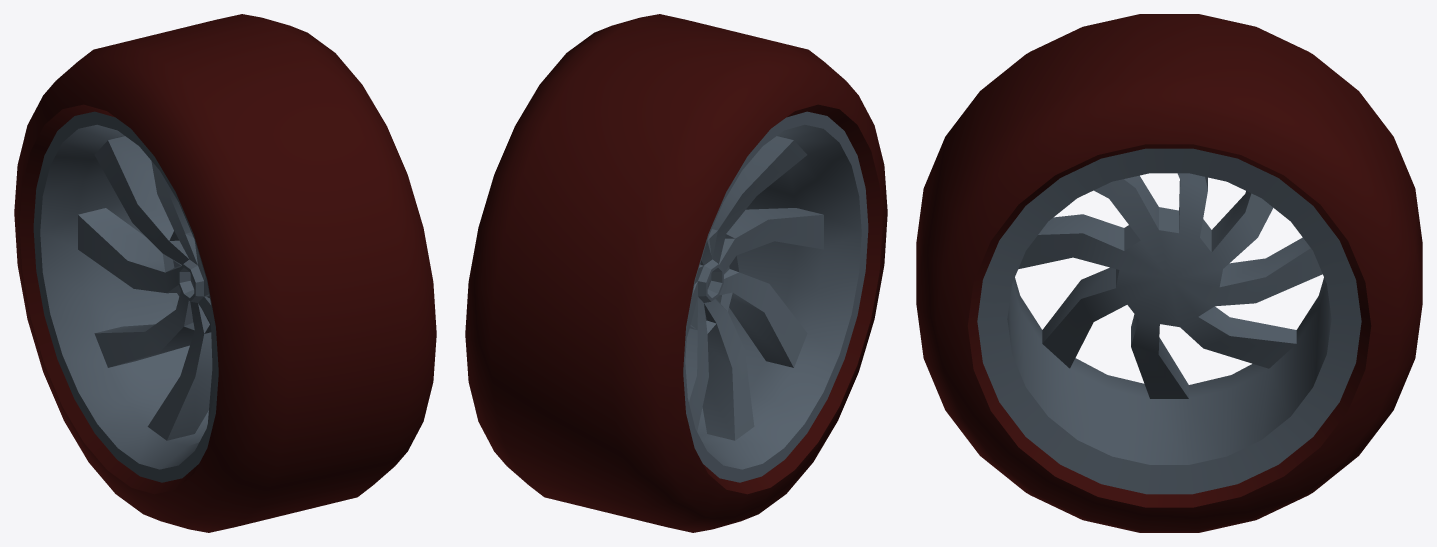
The picture shows the model from 3 angles, left to right: view 1: azimuth 30°, elevation 25°; view 2: azimuth 150°, elevation 25°; view 3: azimuth 270°, elevation 25°; orthographic projection.
Parts seen in each view (by area): view 1: W6B; view 2: W6B; view 3: W6B.
Part boxes in pixels (bbox=[...]): W6B: bbox=[14, 14, 436, 532]; W6B: bbox=[465, 14, 887, 532]; W6B: bbox=[916, 14, 1422, 532].
Size of the model in its own units: 14.02 by 28.35 by 28.56.
